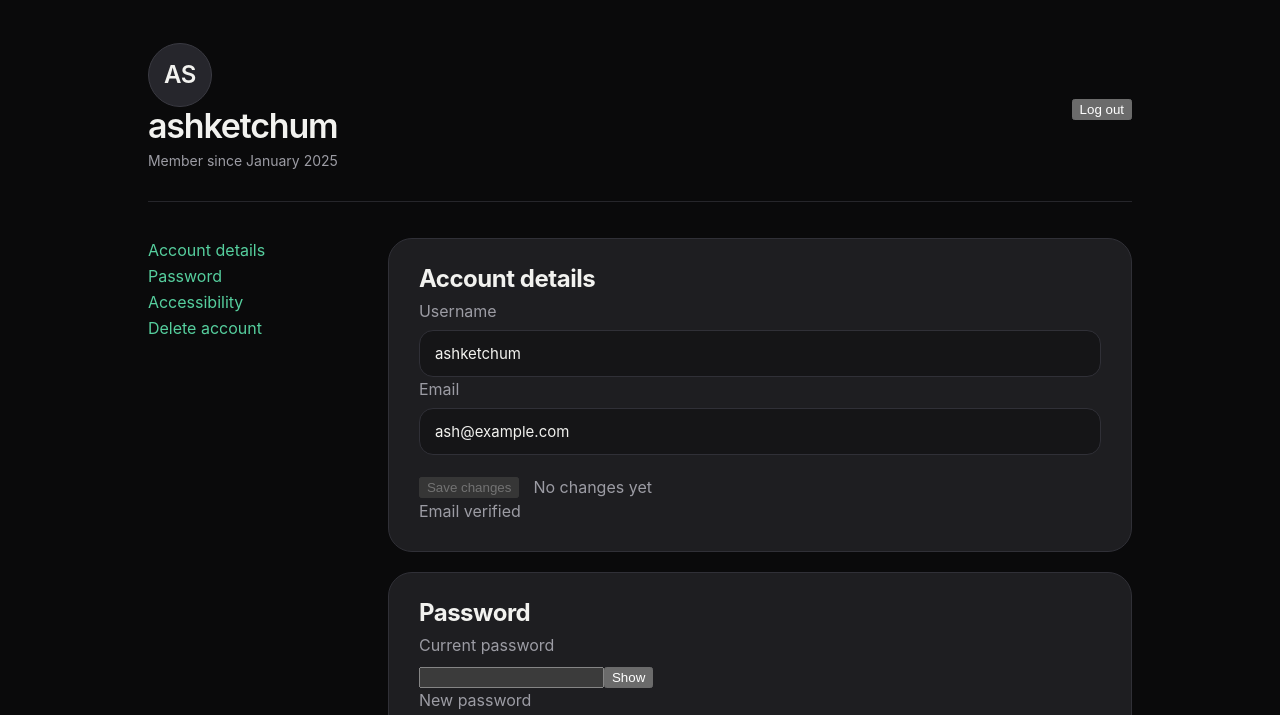
it: Profile › submits current + new password to changePassword
Expected: the heading "ashketchum" is shown, [148,107,338,144]
In the password field labelled "Current password Show": (511, 678) [419,667,604,688], type "oldpass1"
(page scrolled)
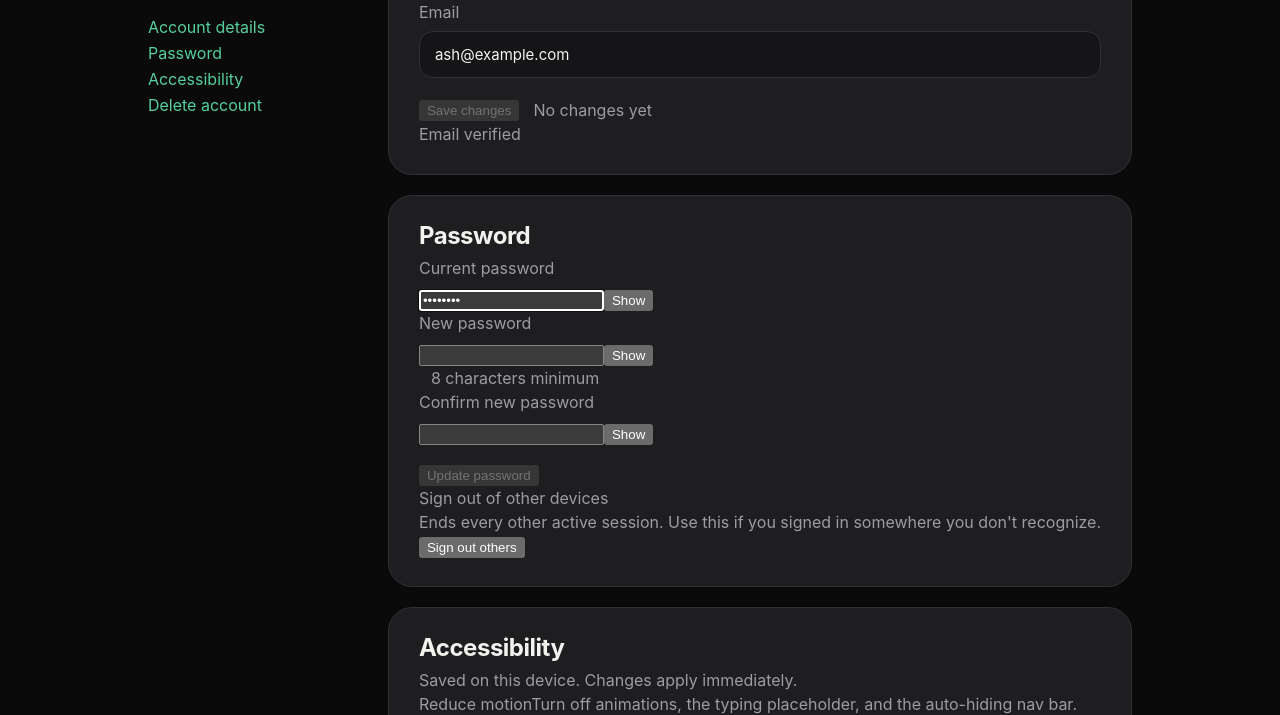
In the password field labelled "New password Show": (511, 356) [419,345,604,366], type "newpass1"
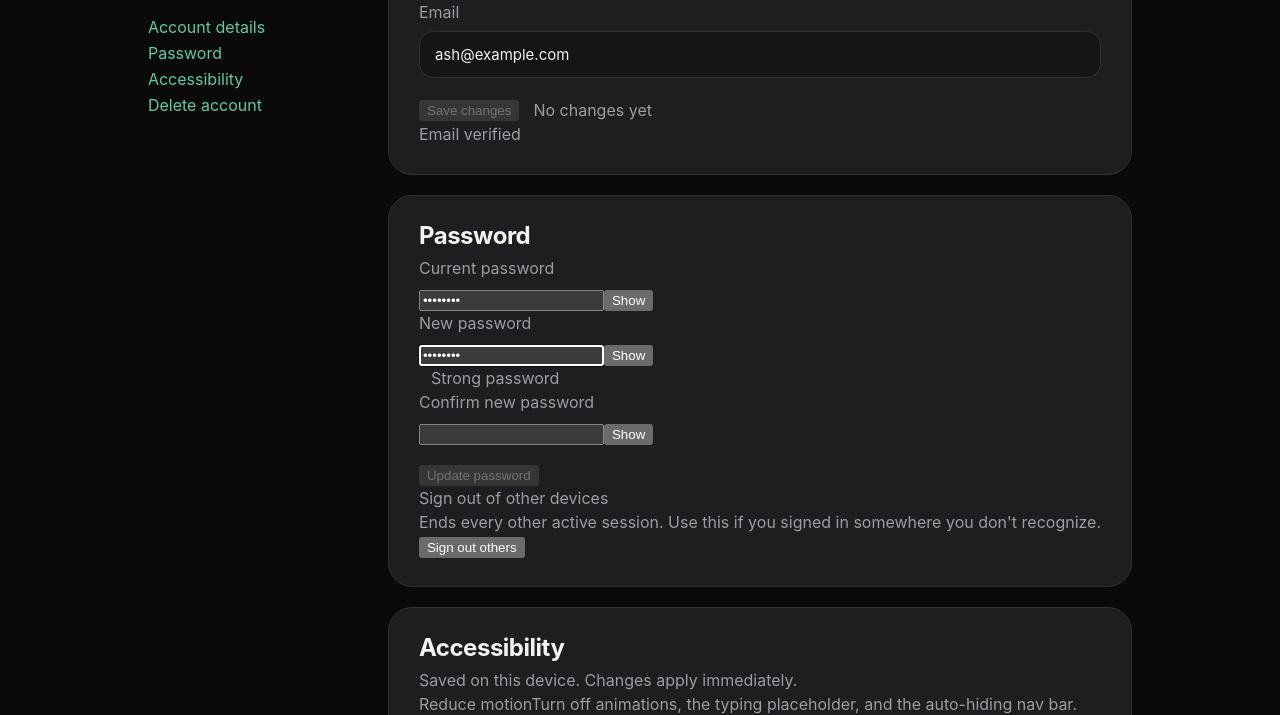
In the password field labelled "Confirm new password Show": (511, 435) [419,424,604,445], type "newpass1"
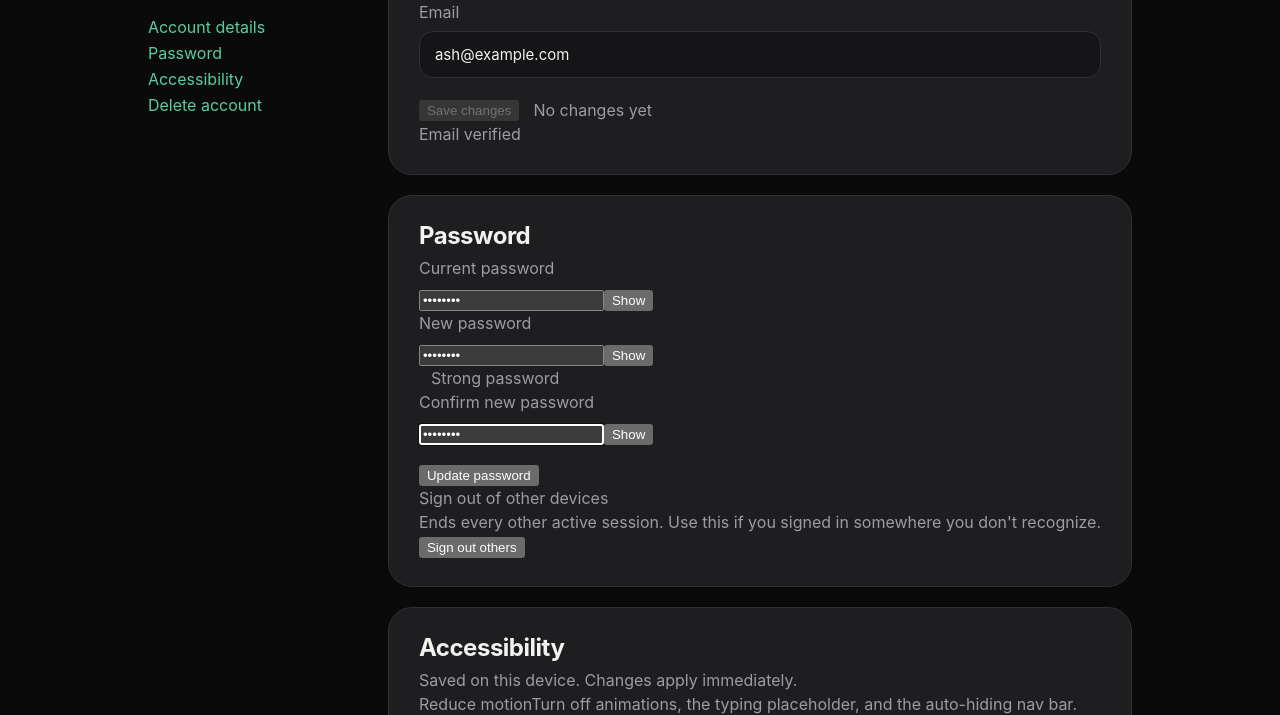
Click the button "Update password": (479, 476) [419,465,539,486]
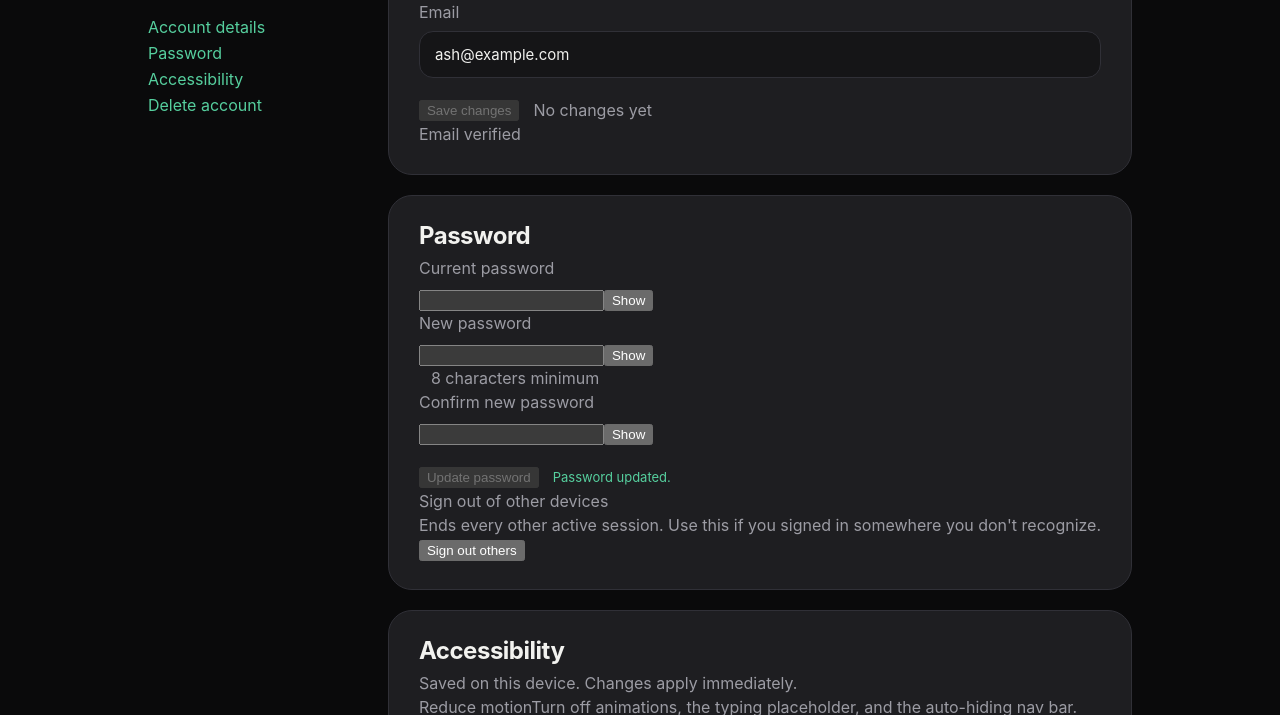
Result: the text "Password updated." is shown at [553,465,671,489]
